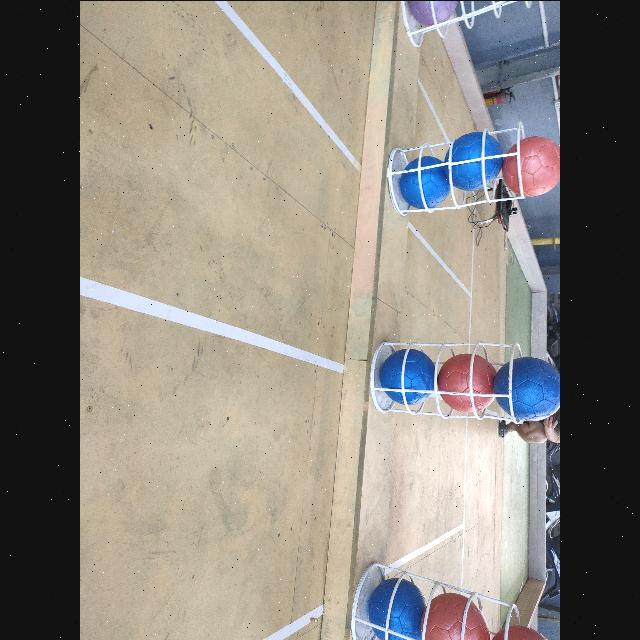B: (490, 352, 560, 422), (370, 576, 422, 640)
R: (438, 352, 496, 410), (424, 592, 490, 640), (492, 624, 552, 640)
